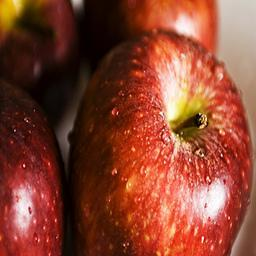apple: (68, 27, 253, 256), (1, 79, 66, 255), (9, 1, 79, 81)
